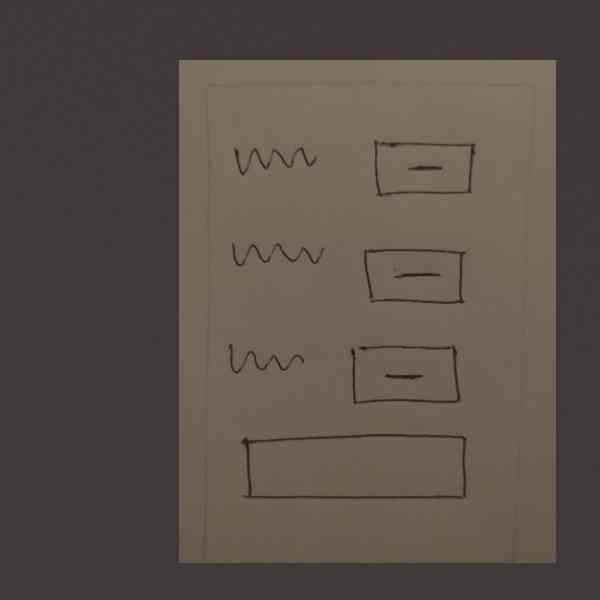button: (344, 338, 469, 414), (361, 129, 481, 208), (358, 241, 474, 312)
text: (220, 233, 329, 278), (221, 137, 323, 183), (222, 335, 311, 383)
text_input: (228, 425, 475, 514)
